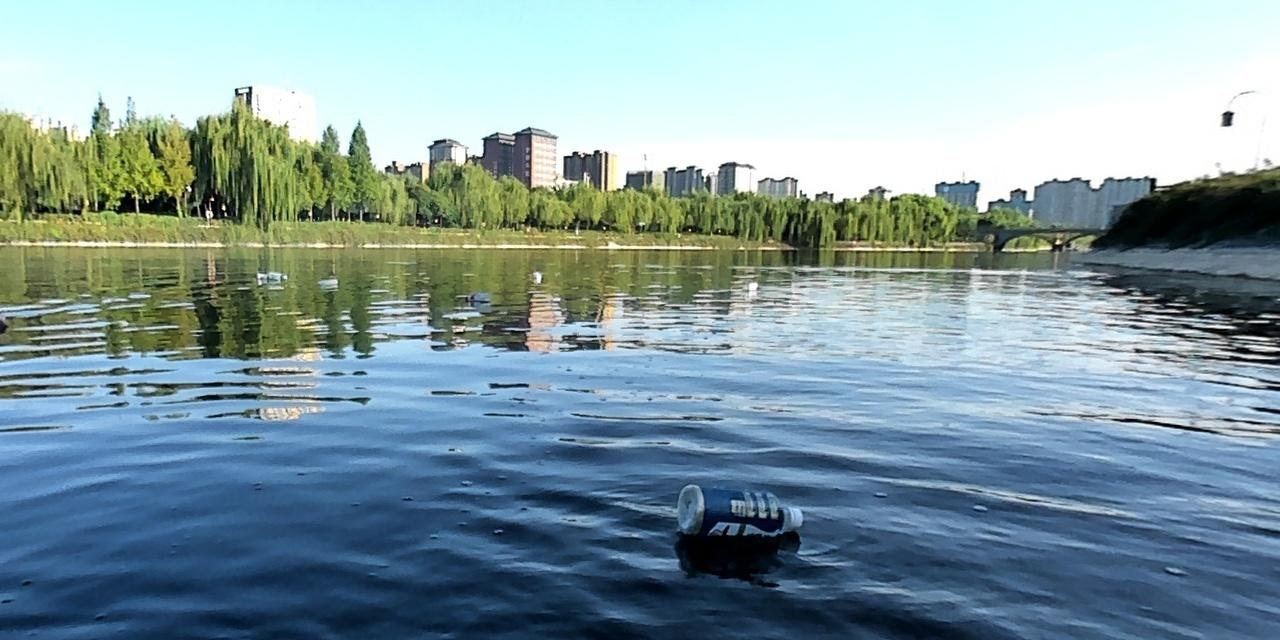bottle: (668, 482, 808, 540), (253, 267, 289, 282), (311, 275, 339, 287), (463, 289, 490, 301)
